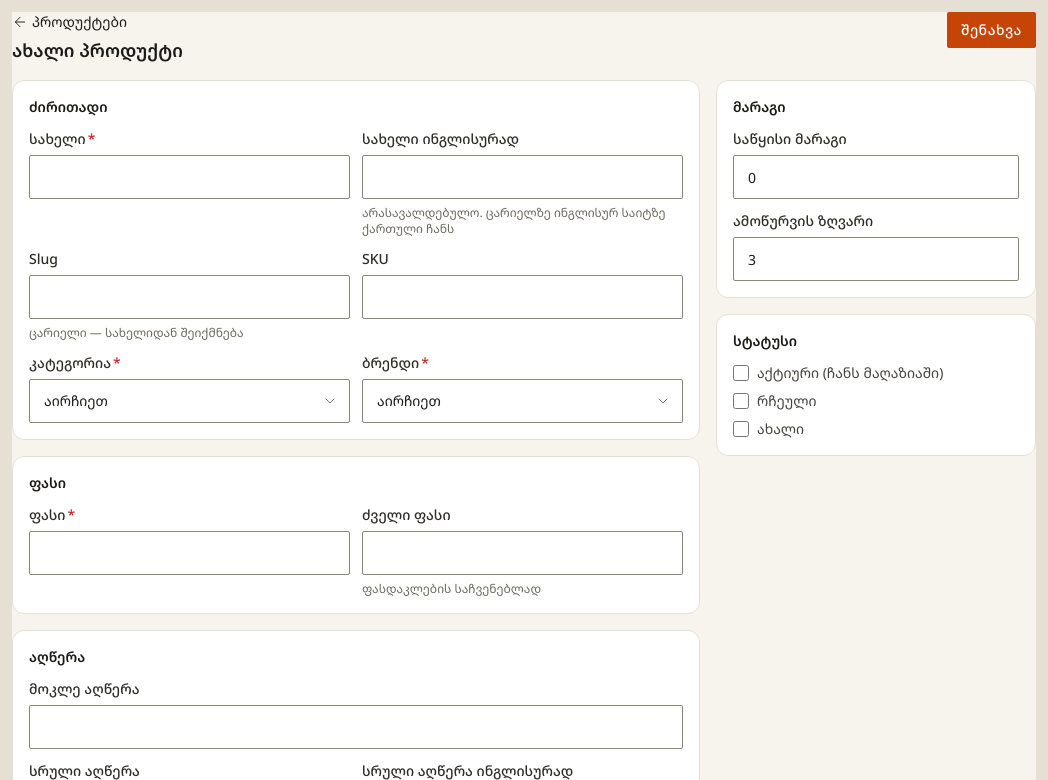
Test: ProductForm server errors › puts a duplicate SKU conflict on the SKU field
Expected: the dropdown labelled "კატეგორია*" is shown, x1=29 y1=379 x2=350 y2=423
Type "ტესტი" into the field labelled "სახელი*" at (190, 177), box x1=29 y1=155 x2=350 y2=199
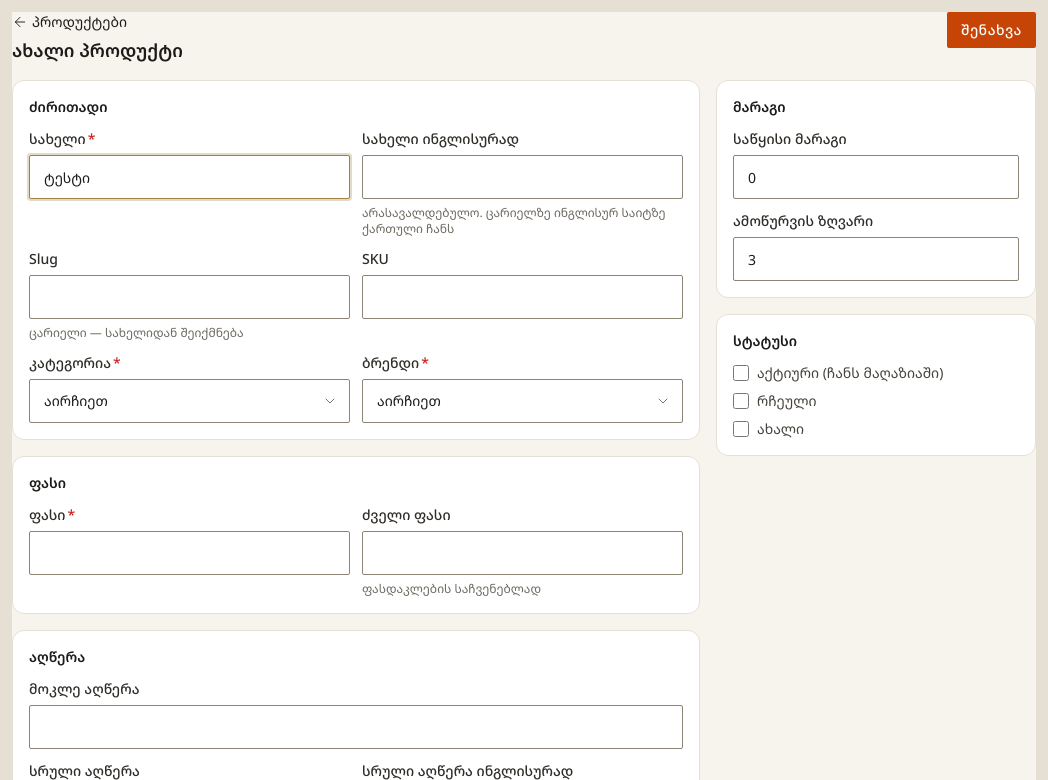
Type "10" into the field labelled "ფასი*" at (190, 553), box x1=29 y1=531 x2=350 y2=575
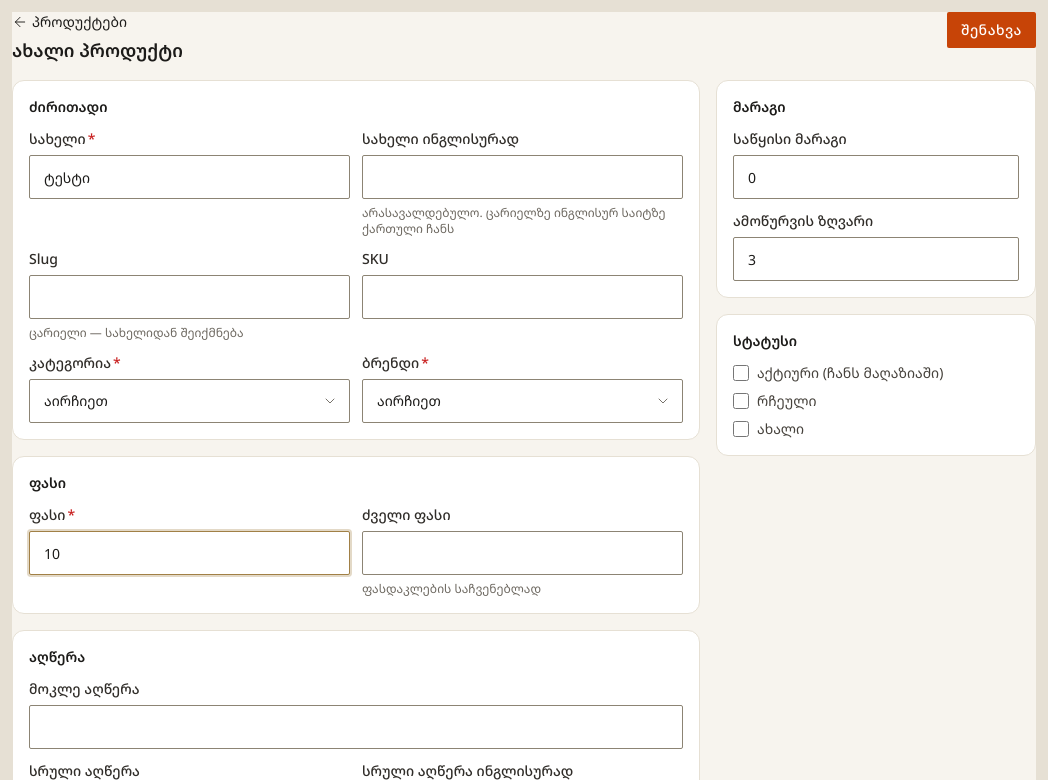
Select "ტელეფონები" in the dropdown labelled "კატეგორია*" at (190, 401), box x1=29 y1=379 x2=350 y2=423
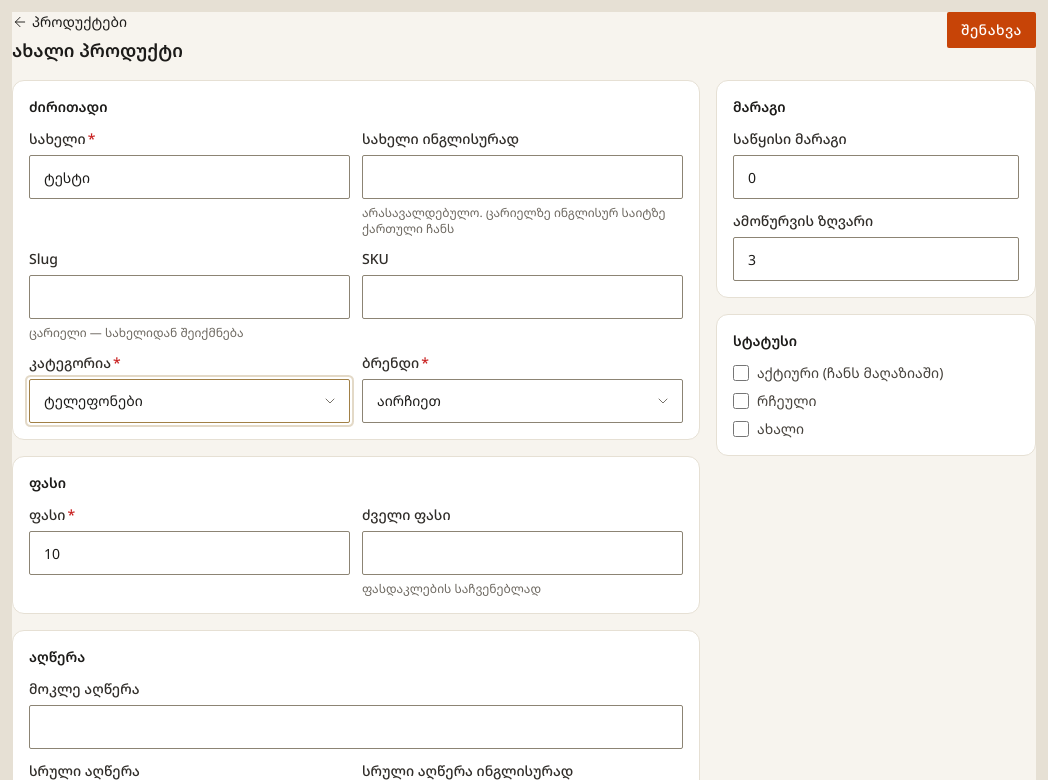
Select "Apple" in the dropdown labelled "ბრენდი*" at (522, 401), box x1=362 y1=379 x2=683 y2=423
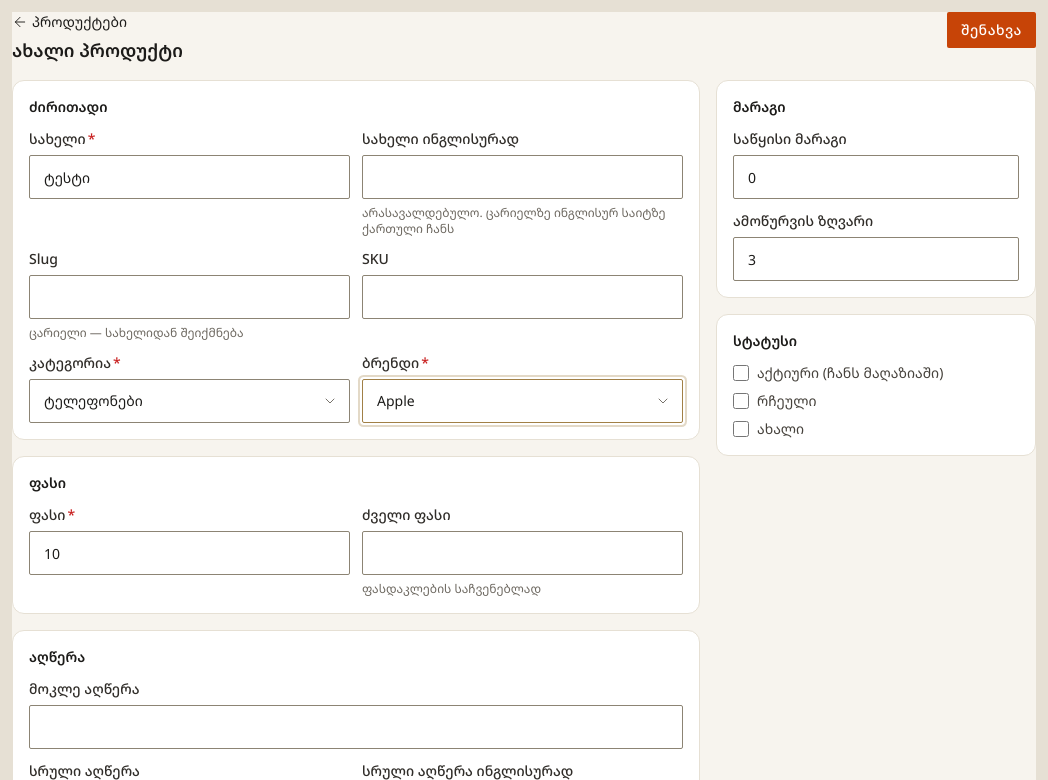
Click the button "შენახვა" at (992, 30), box x1=947 y1=12 x2=1036 y2=48
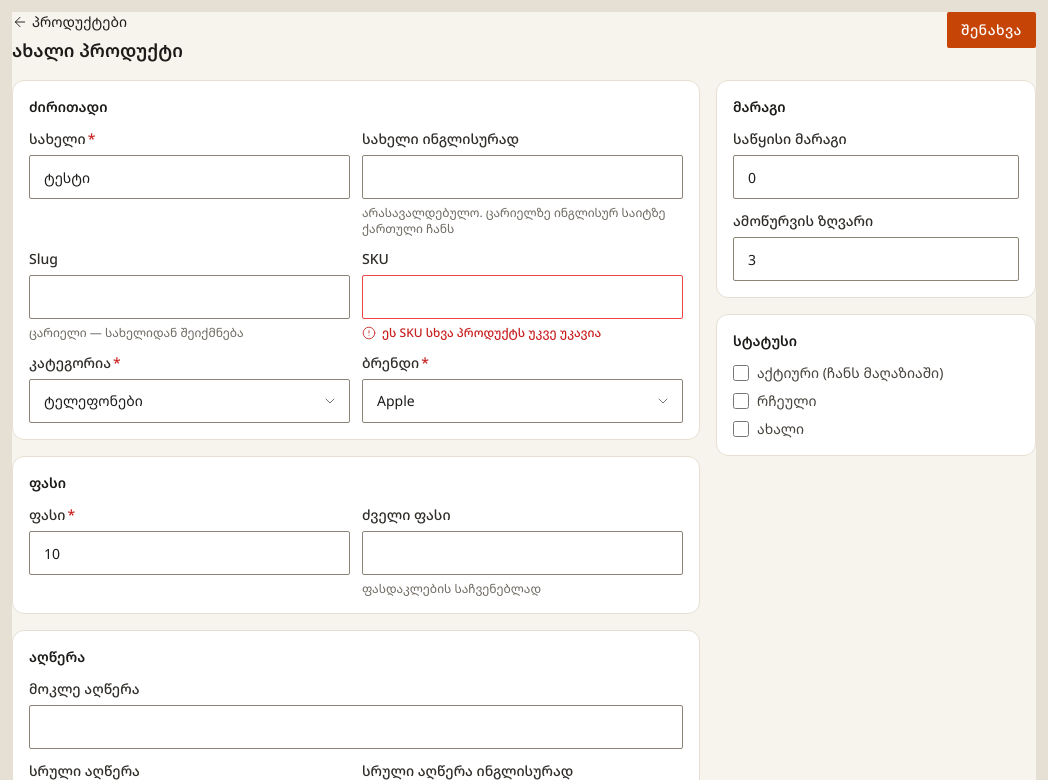
Expected: the text "ეს SKU სხვა პროდუქტს უკვე უკავია" is shown, x1=362 y1=324 x2=601 y2=341
